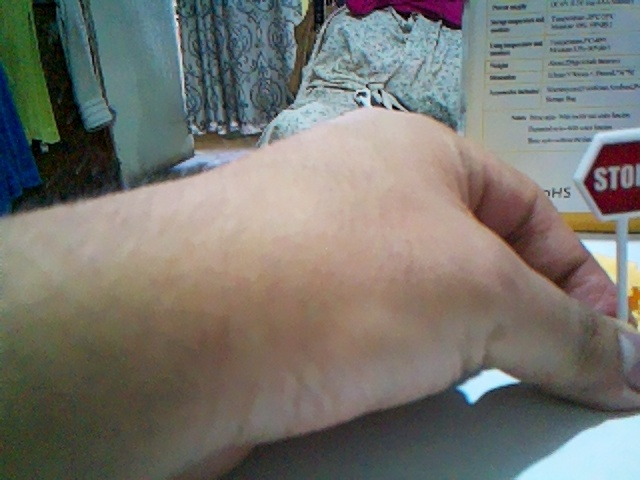stop_sign: (574, 128, 639, 219)
